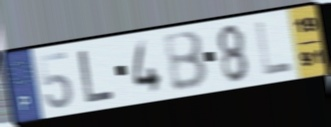4: (132, 38, 164, 94)
5: (36, 50, 75, 111)
8: (216, 22, 252, 85)
B: (161, 28, 211, 94)
L: (253, 19, 295, 78), (76, 48, 117, 105)
